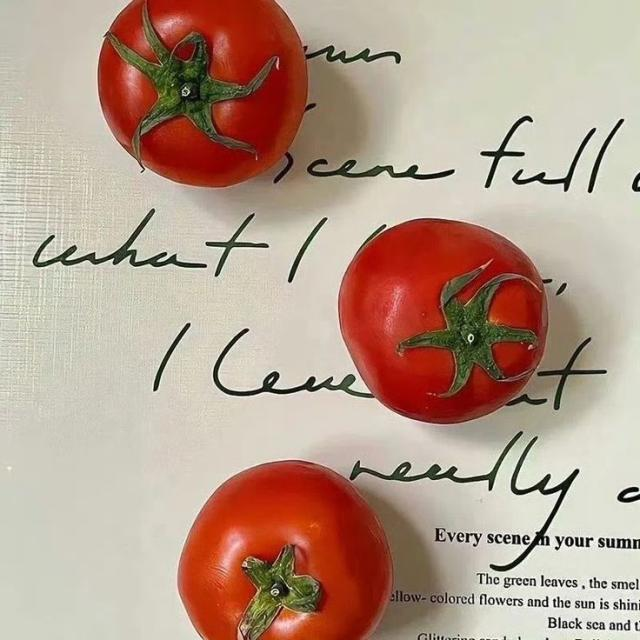tomato: (340, 220, 547, 423), (99, 0, 307, 186), (179, 461, 392, 639)
